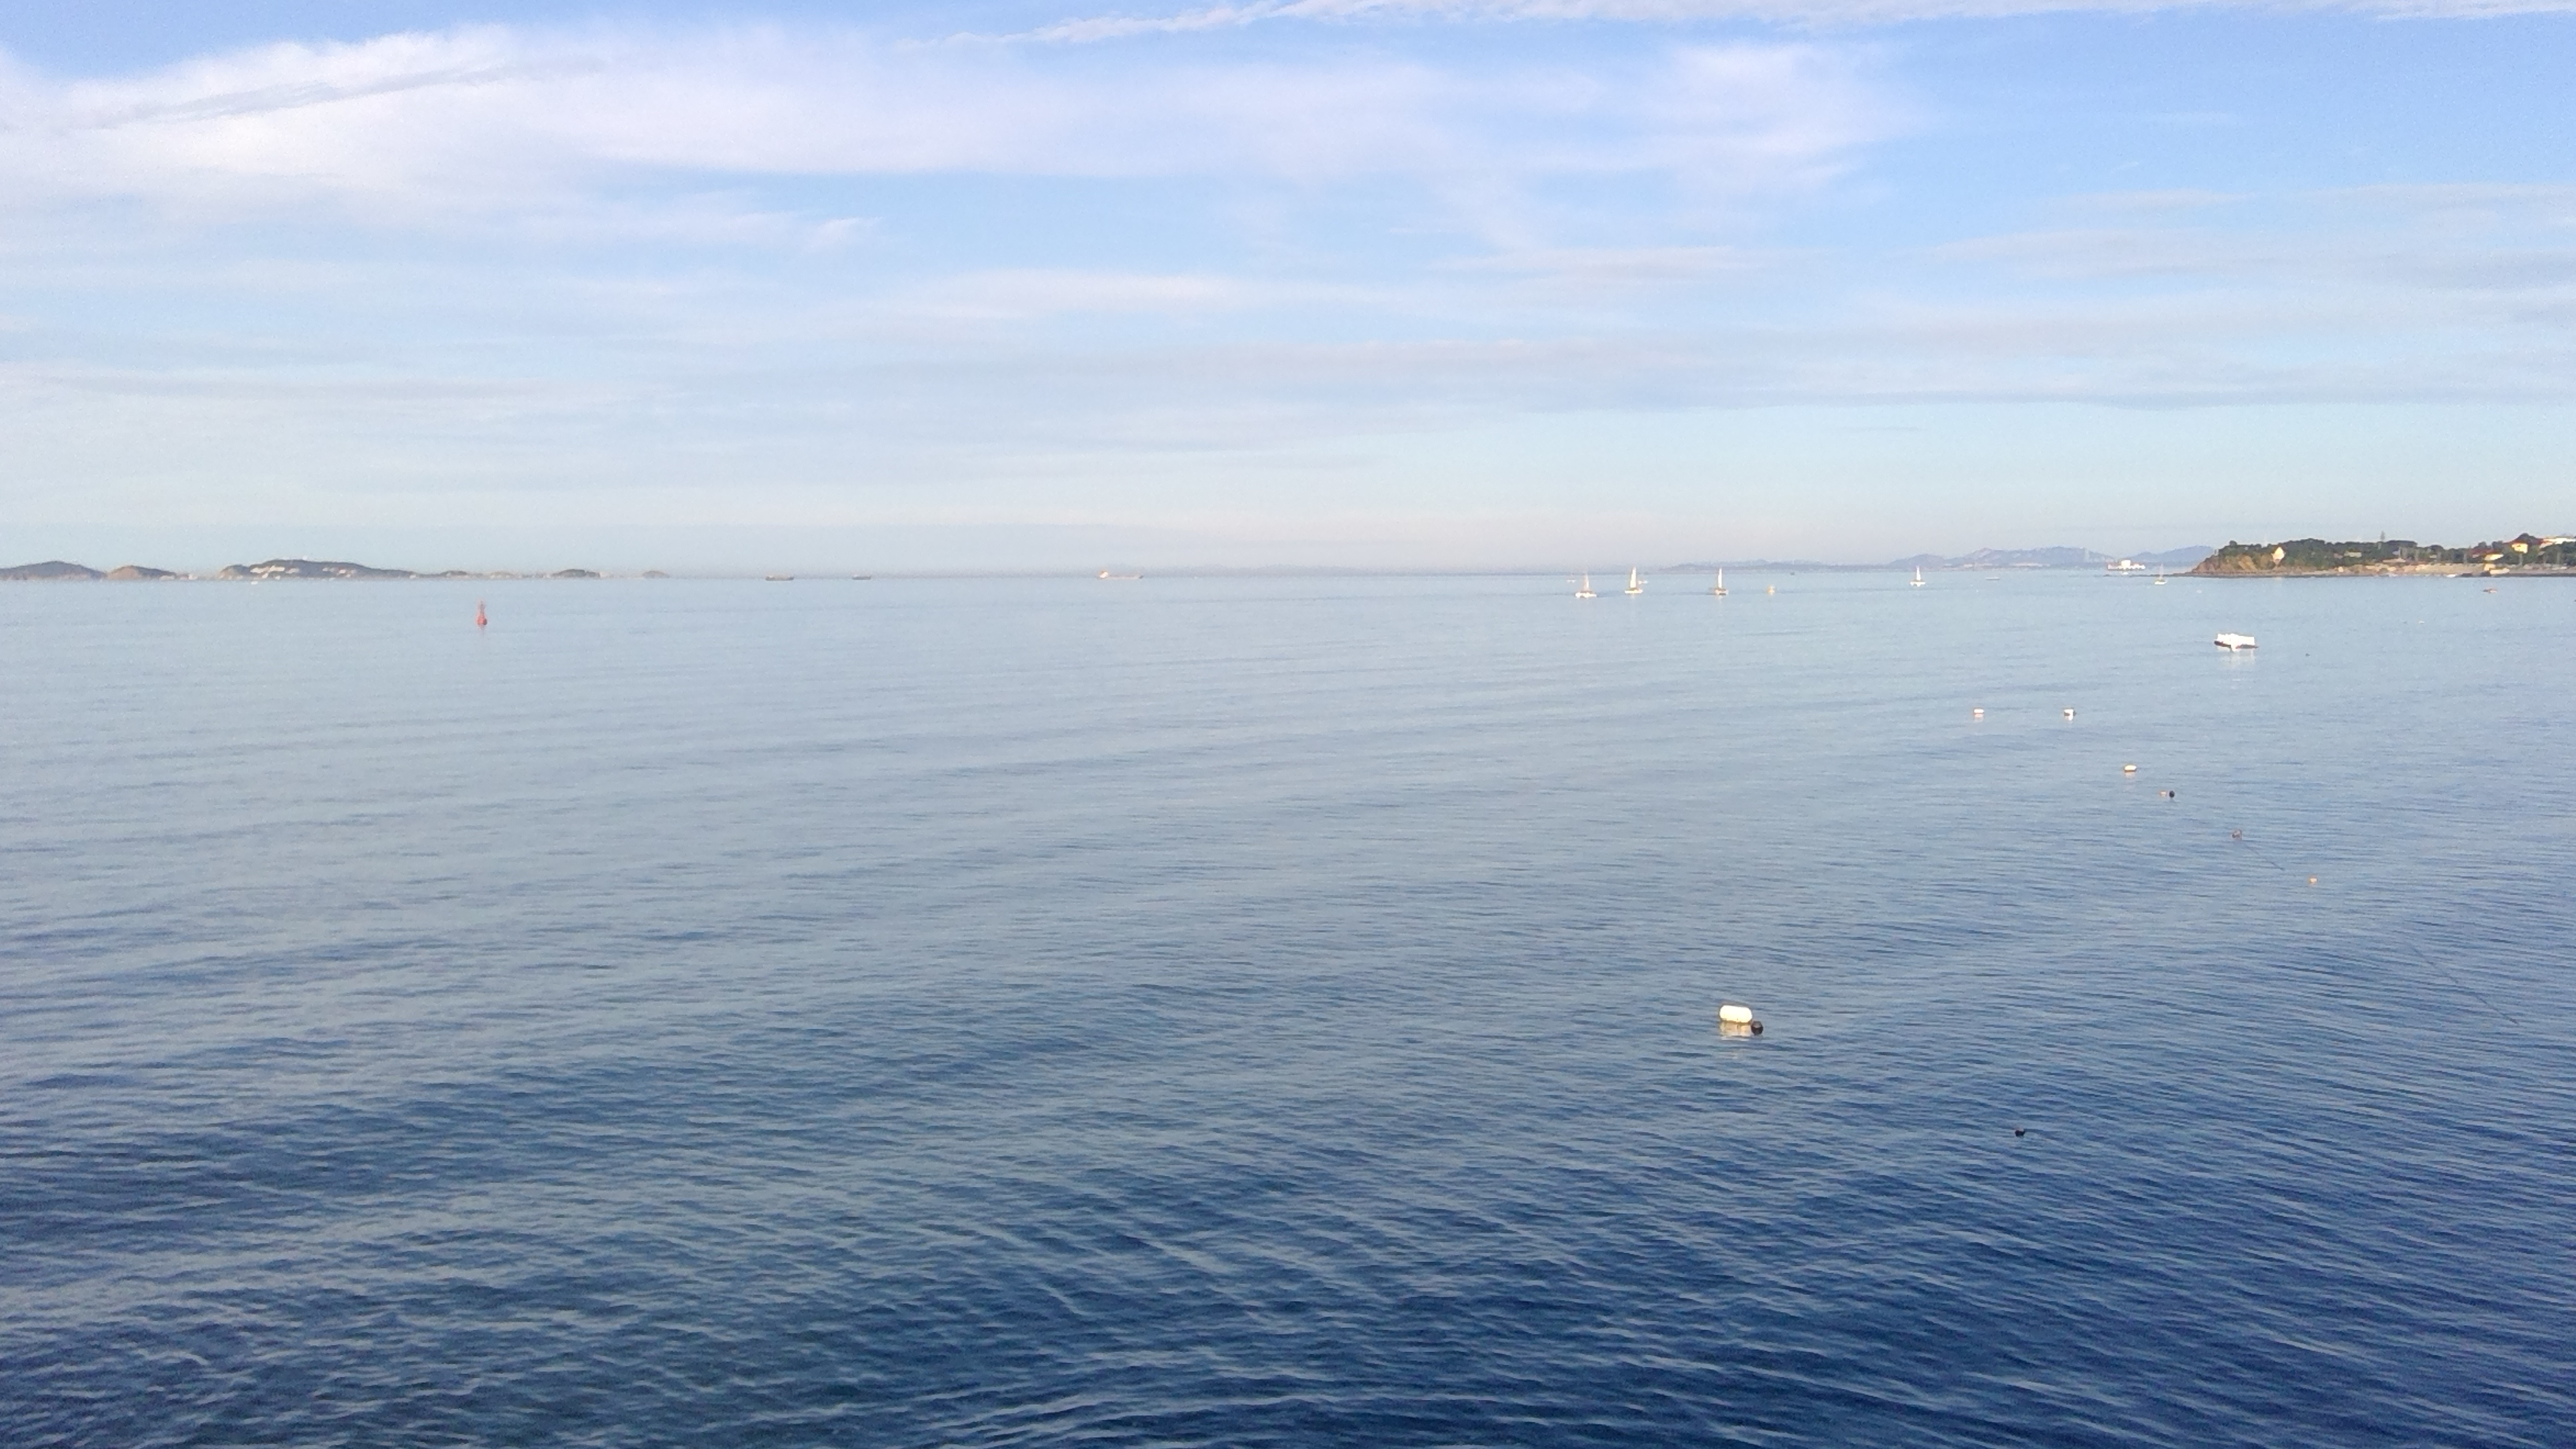buoy: (465, 594, 504, 633)
rock: (2189, 518, 2576, 586), (225, 545, 426, 594), (4, 552, 188, 584)
rubbish: (1709, 993, 1775, 1051)
